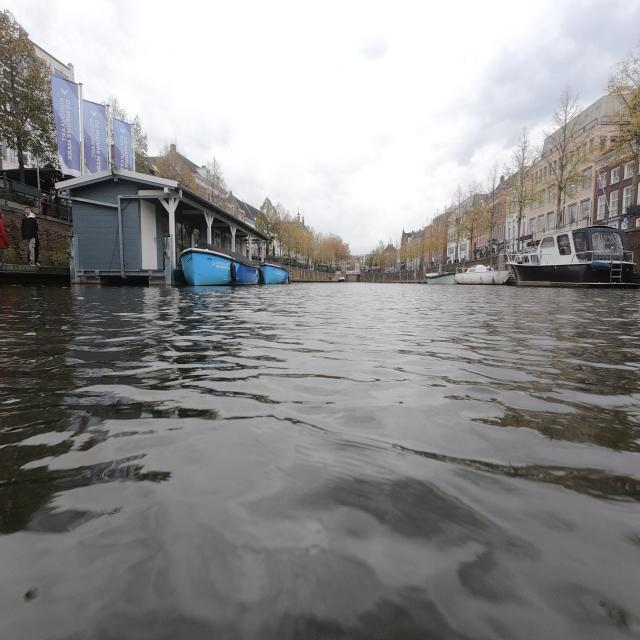boat: (508, 225, 635, 287), (180, 242, 260, 285), (455, 265, 510, 285), (259, 259, 291, 284), (425, 270, 456, 284)
dock: (0, 263, 70, 284)
sky: (0, 8, 638, 248)
water: (8, 290, 638, 634)
